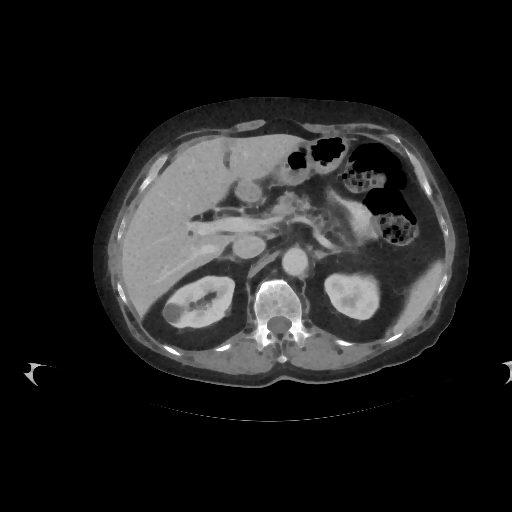Lesion: (163, 304, 186, 325)
